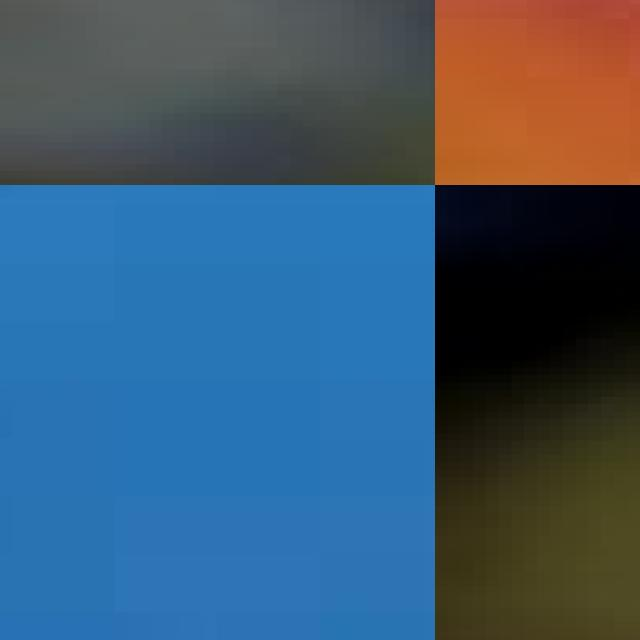fish: (0, 0, 435, 185)
